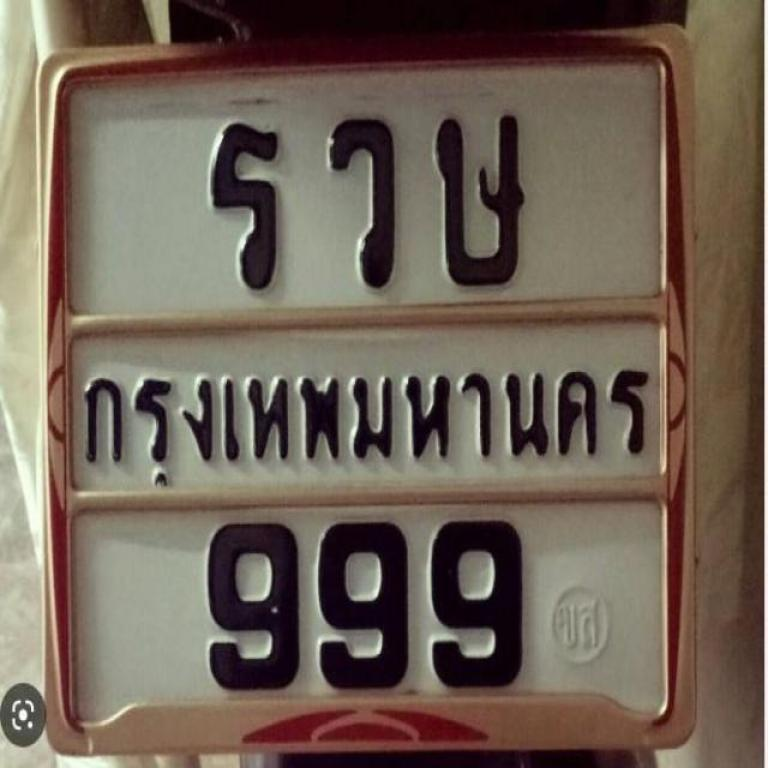license plate: (23, 31, 708, 752)
